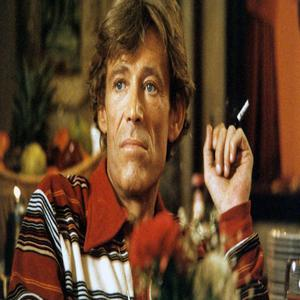cigarette: (236, 98, 252, 123)
